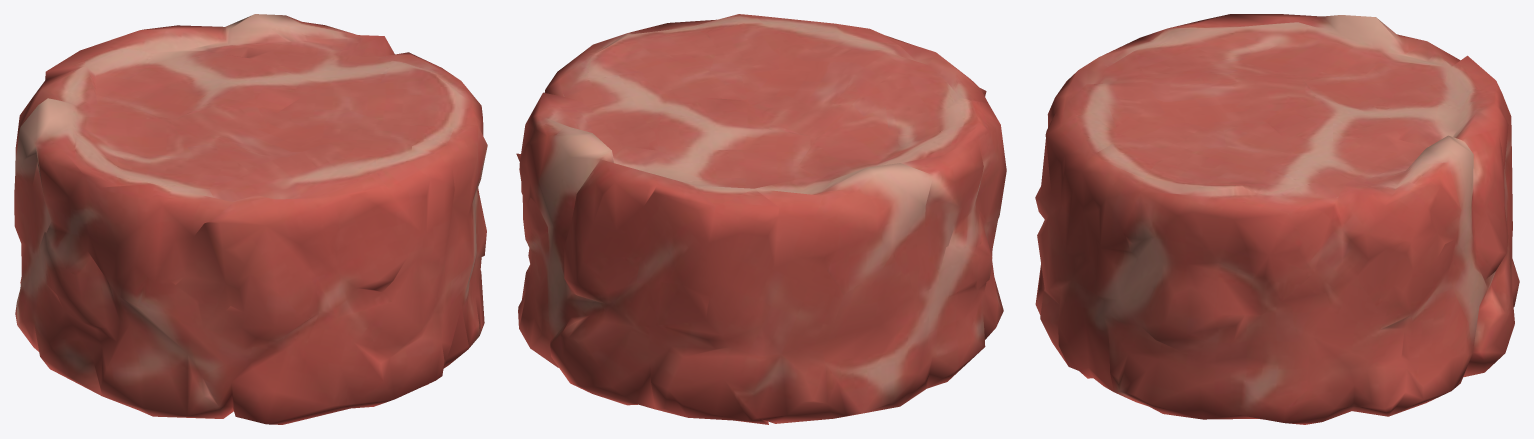
The model's file is meat_filet.glb.
3 renders of one model, left to right at view 1: azimuth 30°, elevation 25°; view 2: azimuth 150°, elevation 25°; view 3: azimuth 270°, elevation 25°, orthographic.
Parts seen in each view (by area): view 1: tripo_node_82cbea1e-da20-49a3-bcca-dade3896bac3; view 2: tripo_node_82cbea1e-da20-49a3-bcca-dade3896bac3; view 3: tripo_node_82cbea1e-da20-49a3-bcca-dade3896bac3.
Part boxes in pixels (x1,y1,x2,y2): tripo_node_82cbea1e-da20-49a3-bcca-dade3896bac3: (14,14,487,424); tripo_node_82cbea1e-da20-49a3-bcca-dade3896bac3: (516,14,1006,424); tripo_node_82cbea1e-da20-49a3-bcca-dade3896bac3: (1035,14,1519,424).
Bounding box in the file's own units: 0.9864 × 0.5545 × 1.
Materials: 1 (1 with a texture image).
